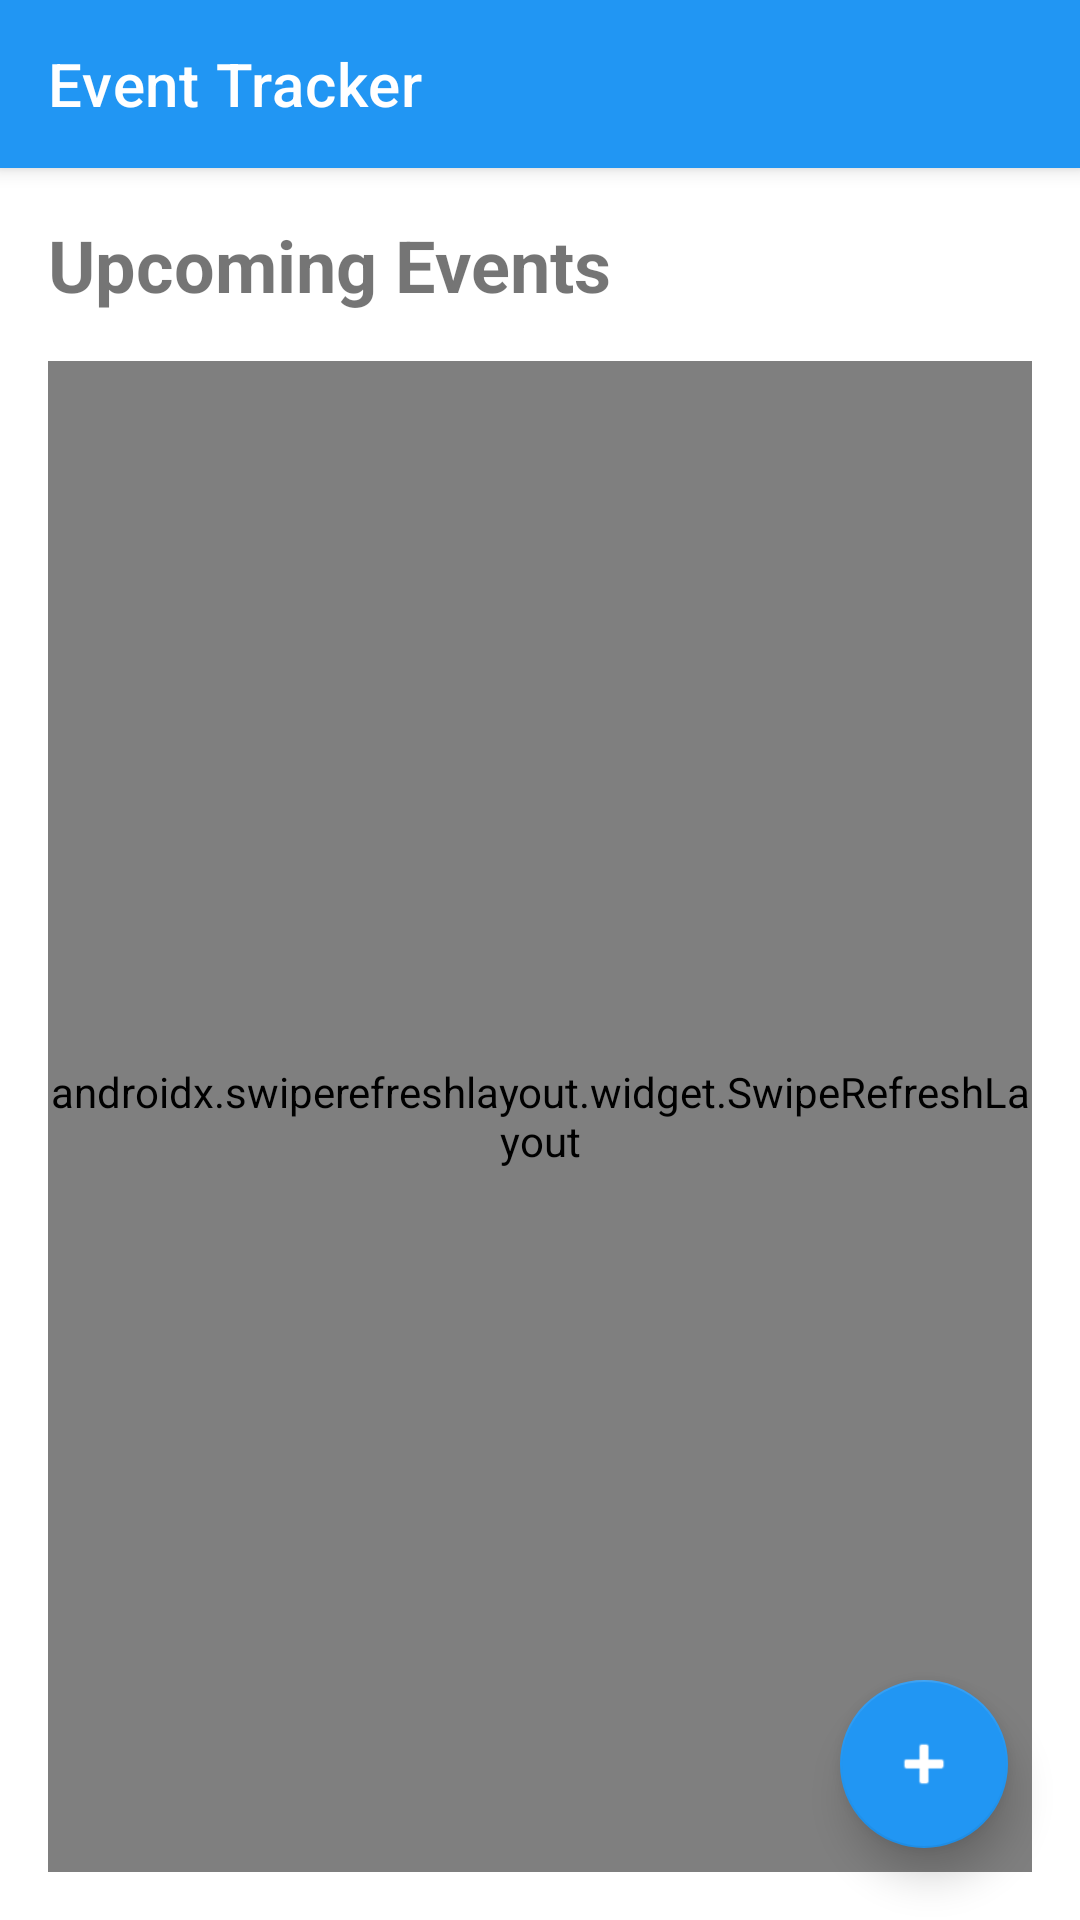

Where icons sit on this 1080 × 1920 app screen, as {"left": x1, "top": y1, "right": x2, "bottom": y2}:
Add Event: {"left": 840, "top": 1680, "right": 1008, "bottom": 1848}
